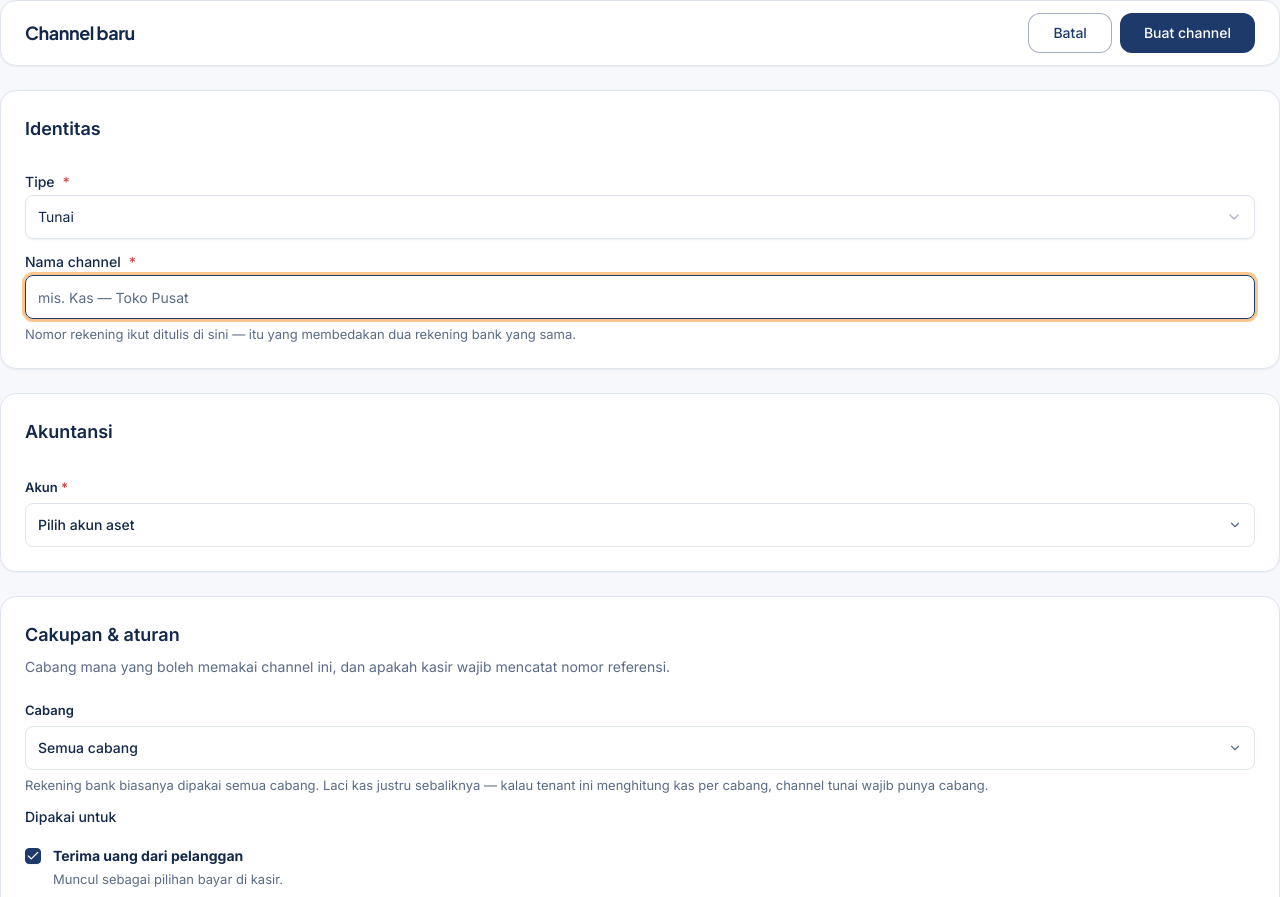
Test: PaymentChannelForm — the server's rules land on their fields › binds a non-asset account refusal to the account field
Type "Kas" into the field labelled "Nama channel *" at (640, 297), box x1=25 y1=275 x2=1255 y2=319
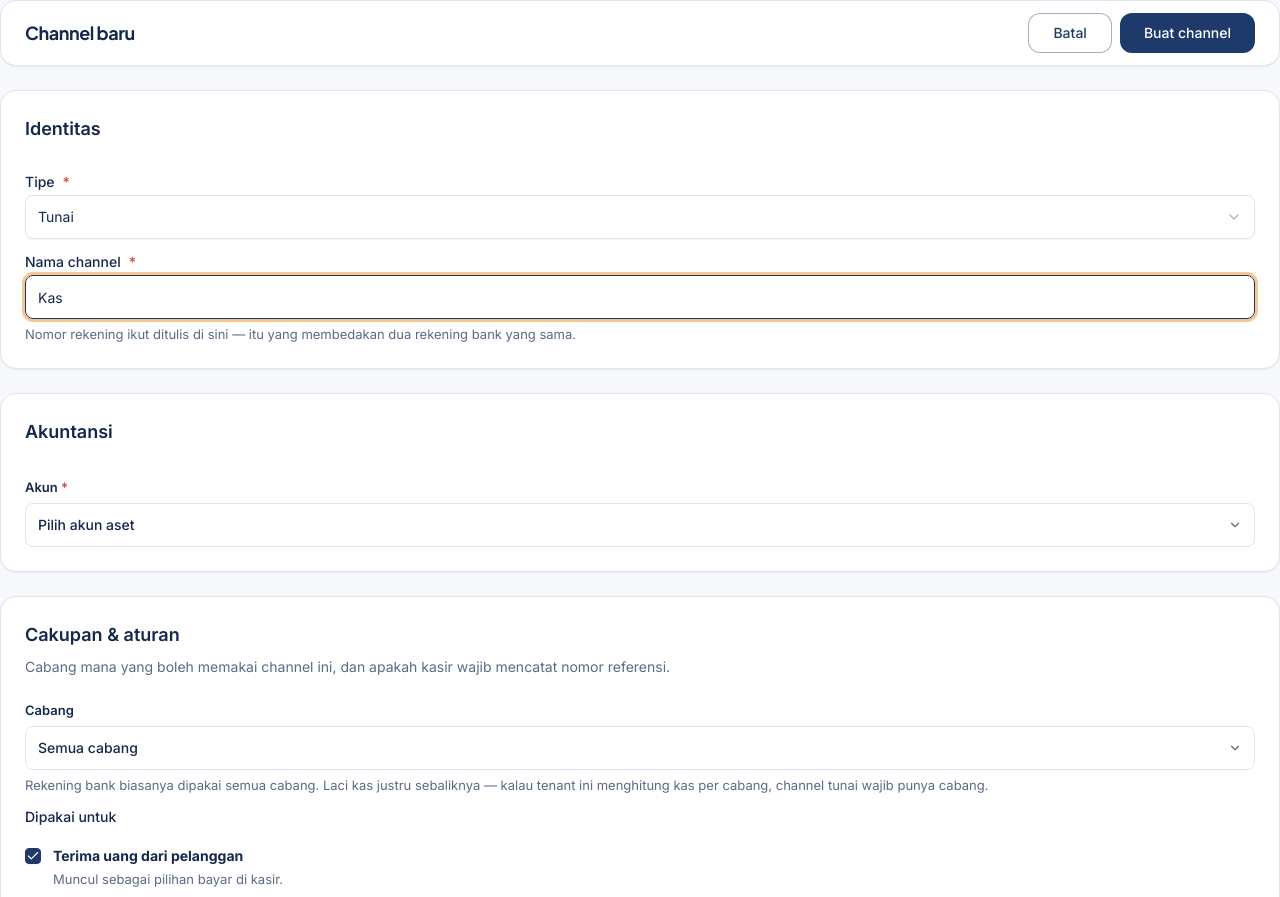
Click the button "Pilih akun aset" at (86, 524), box x1=25 y1=503 x2=1255 y2=547
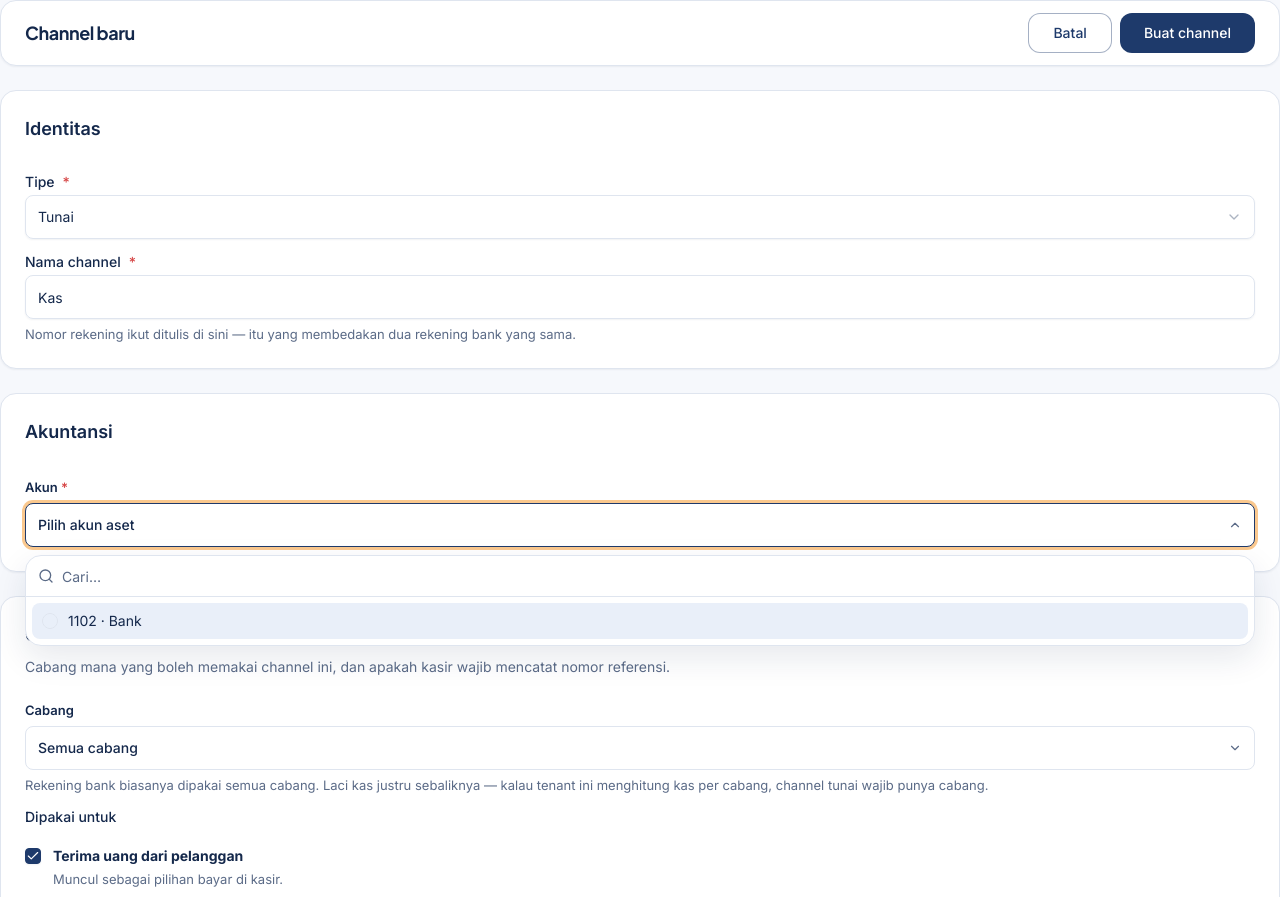
Click the option "1102 · Bank" at (105, 620), box x1=32 y1=603 x2=1248 y2=639
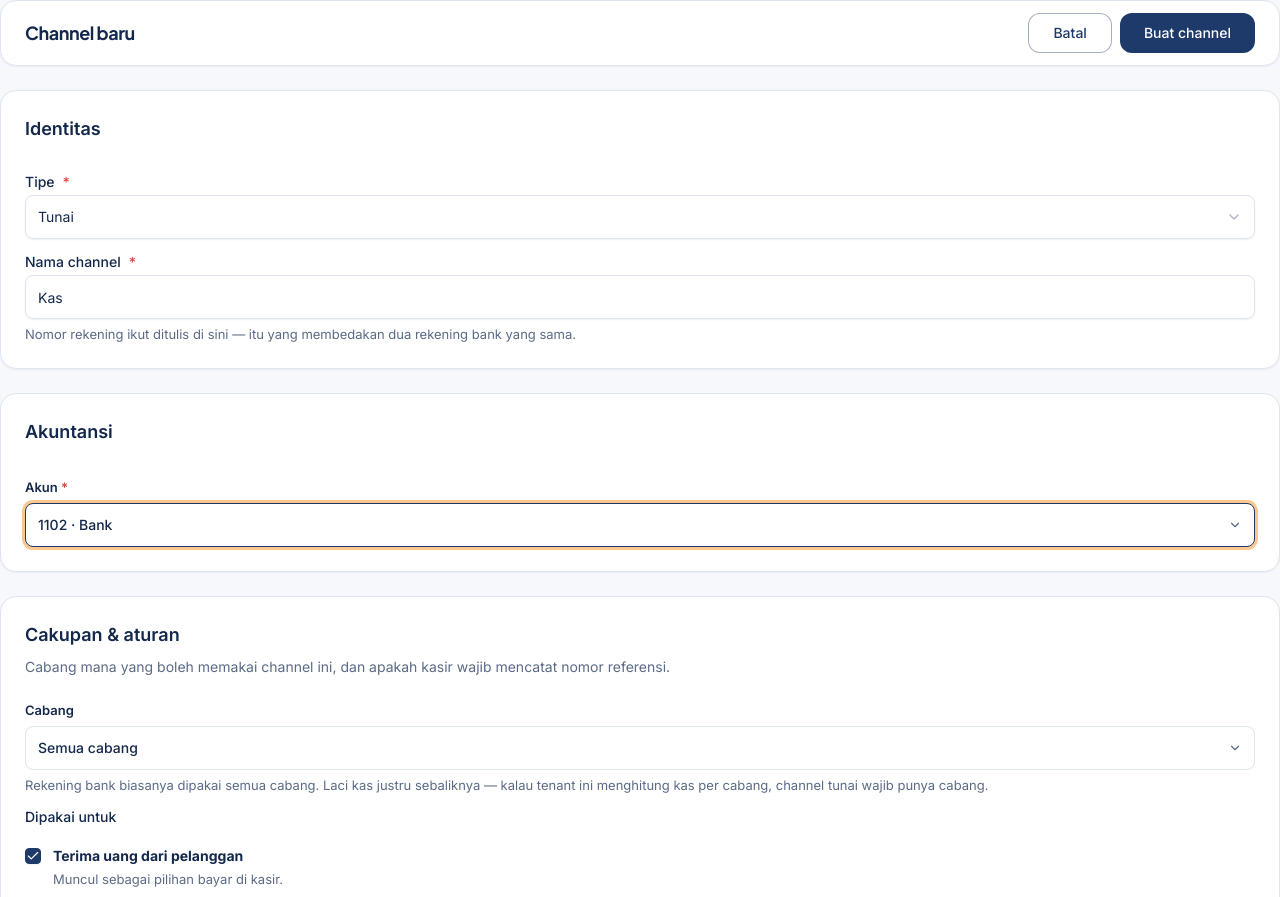
Click the button "Buat channel" at (1187, 33), box x1=1120 y1=13 x2=1255 y2=53
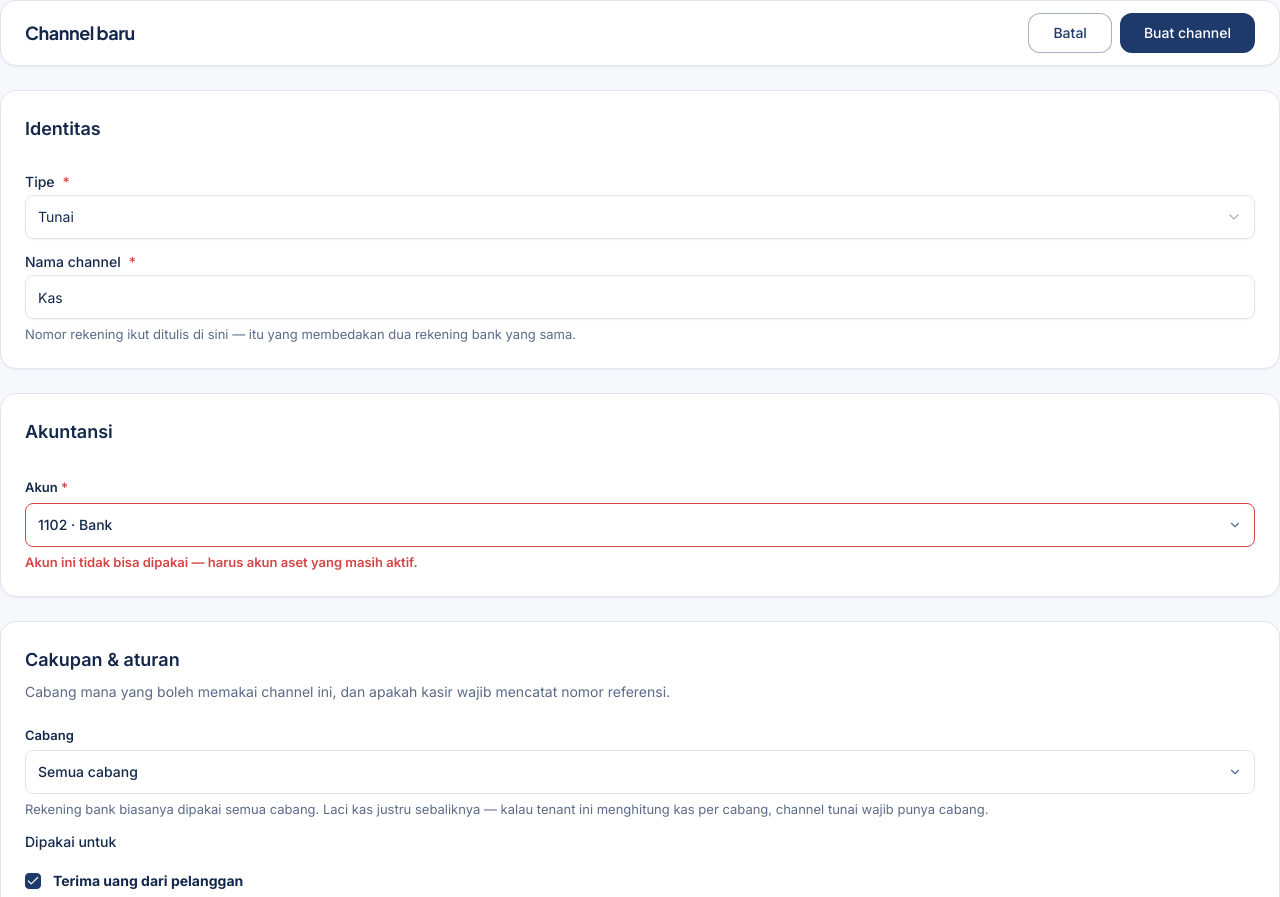
Expected: the text "Akun ini tidak bisa dipakai — harus akun aset yang masih aktif." is shown, x1=25 y1=554 x2=418 y2=570
